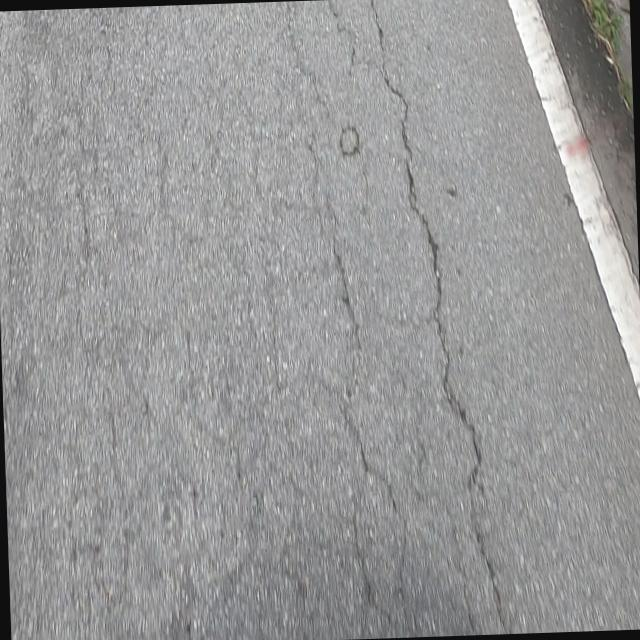Retak-Buaya: (3, 1, 409, 640)
Retak-Memanjang: (368, 0, 502, 631)
